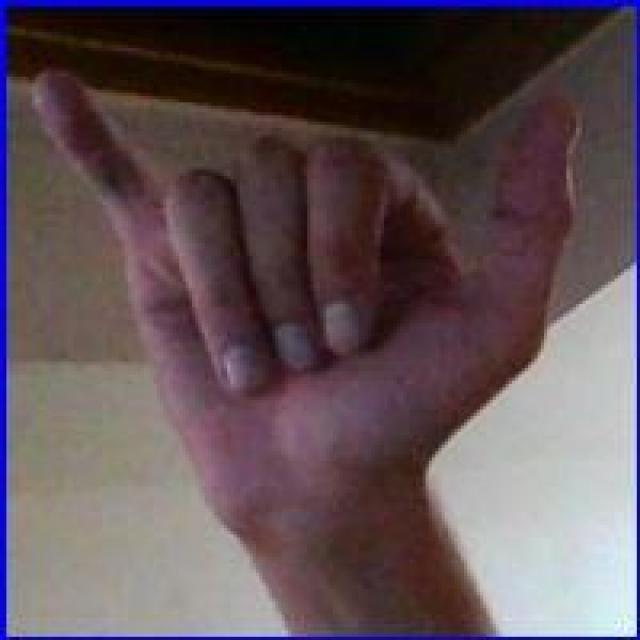Y: (34, 56, 584, 514)
